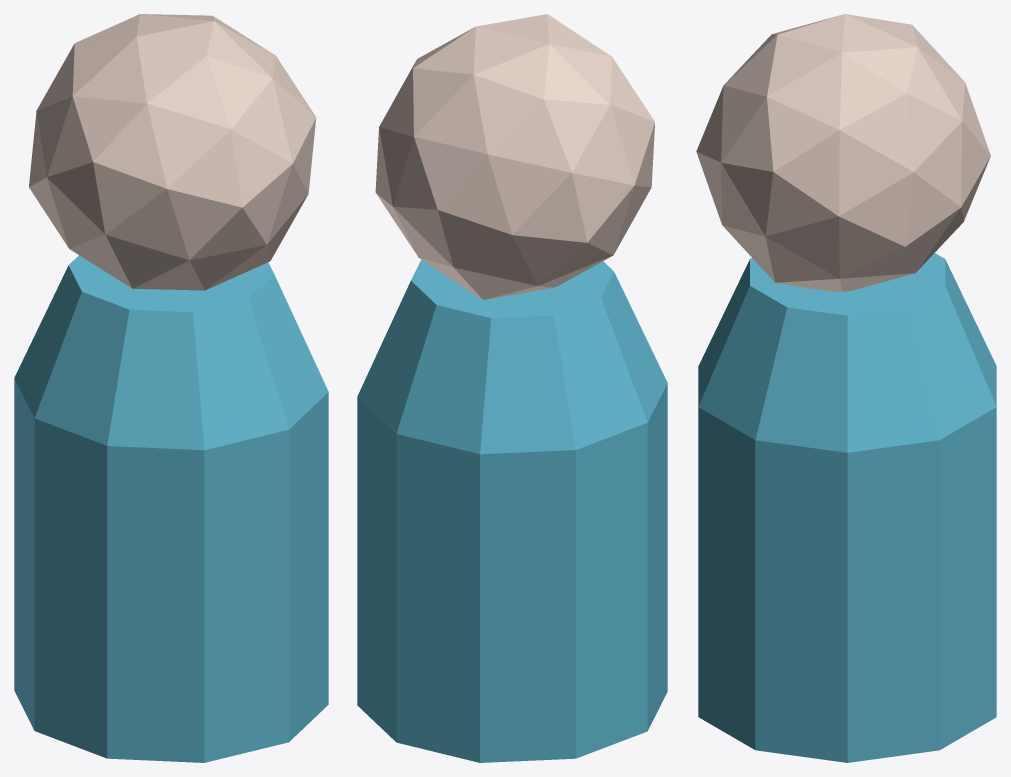
File: Character.fbx
3 renders of one model, left to right at view 1: azimuth 30°, elevation 25°; view 2: azimuth 150°, elevation 25°; view 3: azimuth 270°, elevation 25°, orthographic.
Parts seen in each view (by area): view 1: pPlatonic2; view 2: pPlatonic2; view 3: pPlatonic2.
Boxes of the visible parts, x1,y1,x2,y2 form: pPlatonic2: [14, 14, 328, 762]; pPlatonic2: [357, 14, 667, 762]; pPlatonic2: [696, 14, 996, 762].
Bounding box in the file's own units: 1.97 × 4.61 × 1.89.
